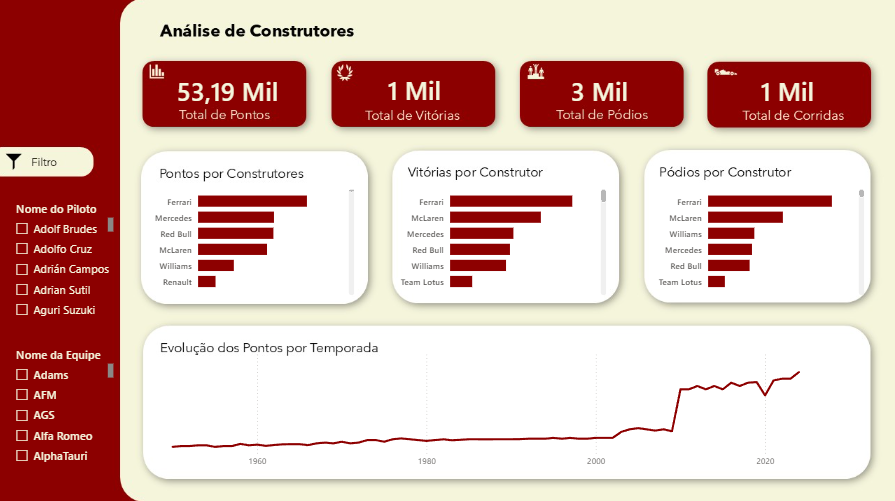

The page's visual inventory and layout, read from the dashboard file:
{"tool":"powerbi","page":{"name":"Análise de Construtores","canvas":[1280,720],"ordinal":2},"visuals":[{"type":"cardVisual","fields":{"Data":["FactResults.Total Pontos"]},"box":[211.6,88,230.8,79],"z":0},{"type":"cardVisual","fields":{"Data":["FactResults.Total Vitórias"]},"box":[521.4,80.3,144.1,93.1],"z":1000},{"type":"cardVisual","fields":{"Data":["FactResults.Total Pódios"]},"box":[782.8,88,150.4,79],"z":2000},{"type":"cardVisual","fields":{"Data":["FactResults.Total Corridas"]},"box":[1054.3,88,144.1,79],"z":3000},{"type":"barChart","fields":{"Category":["DimConstructor.name"],"Y":["FactResults.Total Pontos"]},"box":[191.2,257.5,321.3,169.6],"z":4000},{"type":"barChart","fields":{"Category":["DimConstructor.name"],"Y":["FactResults.Total Vitórias"]},"box":[552,257.5,321.3,169.6],"z":5000},{"type":"barChart","fields":{"Category":["DimConstructor.name"],"Y":["FactResults.Total Pódios"]},"box":[920.5,257.5,321.3,169.6],"z":6000},{"type":"lineChart","fields":{"Category":["DimRace.year"],"Y":["FactResults.Total Pontos"]},"box":[229.5,490.8,1003.3,184.9],"z":7000},{"type":"slicer","fields":{"Values":["DimConstructor.name"]},"box":[11.5,490.8,156.8,184.9],"z":8000},{"type":"slicer","fields":{"Values":["DimDriver.Nome Piloto"]},"box":[11.5,283,156.8,179.8],"z":10000}]}

Visuals, with their boxes in screenshot pixels (x1, y1, x2, y2), scaled from the page's 1280x720 canvas onto the 895x501 screenshot:
cardVisual - FactResults.Total Pontos: box=[148, 61, 309, 116]
cardVisual - FactResults.Total Vitórias: box=[365, 56, 465, 121]
cardVisual - FactResults.Total Pódios: box=[547, 61, 653, 116]
cardVisual - FactResults.Total Corridas: box=[737, 61, 838, 116]
barChart - DimConstructor.name x FactResults.Total Pontos: box=[134, 179, 358, 297]
barChart - DimConstructor.name x FactResults.Total Vitórias: box=[386, 179, 611, 297]
barChart - DimConstructor.name x FactResults.Total Pódios: box=[644, 179, 868, 297]
lineChart - DimRace.year x FactResults.Total Pontos: box=[160, 342, 862, 470]
slicer - DimConstructor.name: box=[8, 342, 118, 470]
slicer - DimDriver.Nome Piloto: box=[8, 197, 118, 322]
